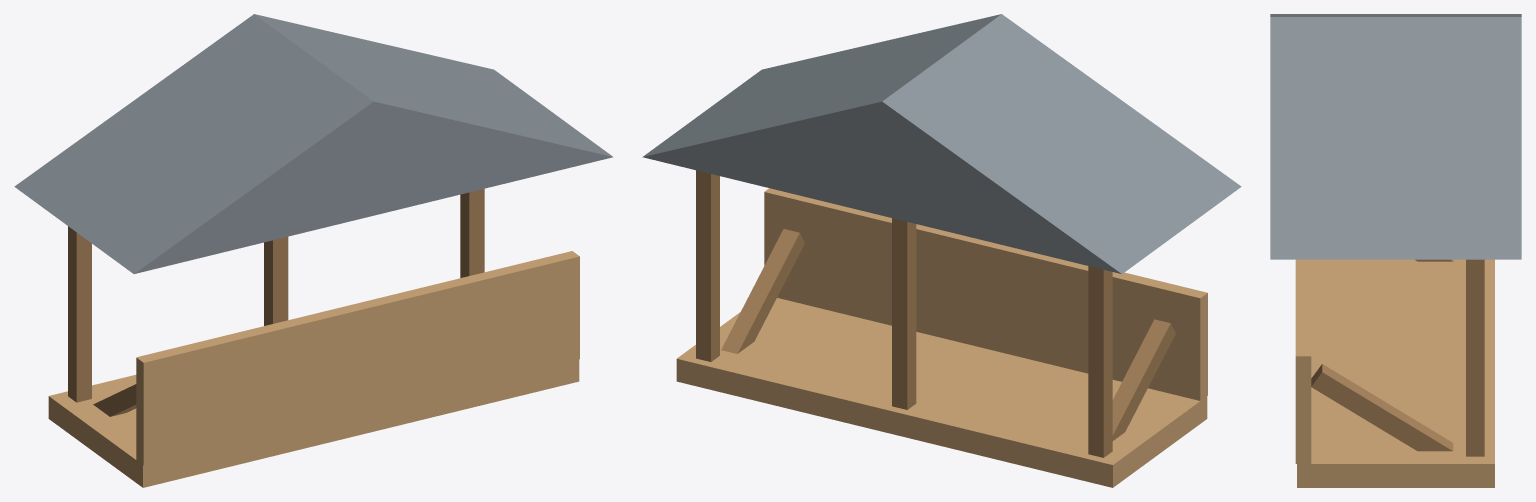
Rendered from hoarding-gallery.glb.
3 renders of one model, left to right at view 1: azimuth 30°, elevation 25°; view 2: azimuth 150°, elevation 25°; view 3: azimuth 270°, elevation 25°, orthographic. The views are drawn at different scales.
Visible parts, largest first — view 1: hoarding-gallery; view 2: hoarding-gallery; view 3: hoarding-gallery.
Boxes of the visible parts, <box> form: hoarding-gallery: <box>14,14,613,487</box>; hoarding-gallery: <box>642,14,1241,487</box>; hoarding-gallery: <box>1270,14,1521,487</box>.
Bounding box in the file's own units: 4.4 × 3.06 × 1.9.
